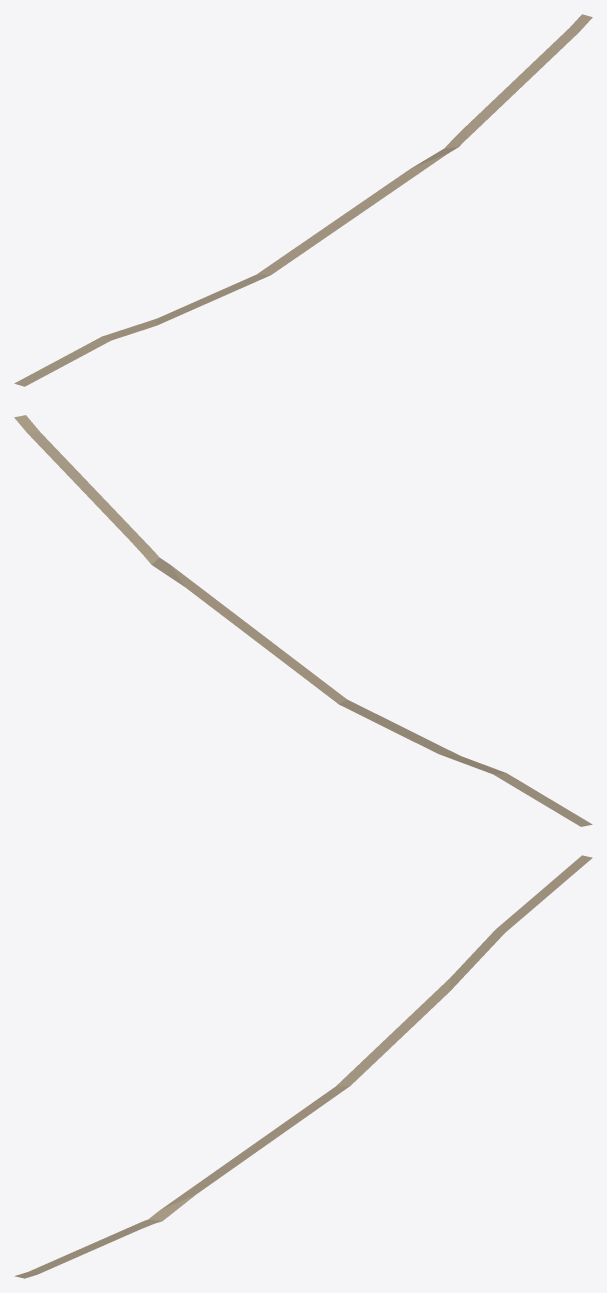
The model's file is farm_18_26_track.glb.
3 renders of one model, top to bottom at view 1: azimuth 90°, elevation 25°; view 2: azimuth 150°, elevation 25°; view 3: azimuth 270°, elevation 25°, orthographic. The views are drawn at different scales.
Parts seen in each view (by area): view 1: geometry_0; view 2: geometry_0; view 3: geometry_0.
Boxes of the visible parts, x1,y1,x2,y2 form: geometry_0: (14, 14, 592, 386); geometry_0: (14, 415, 592, 826); geometry_0: (14, 855, 592, 1278).
Size of the model in its own units: 244 by 18.32 by 150.
